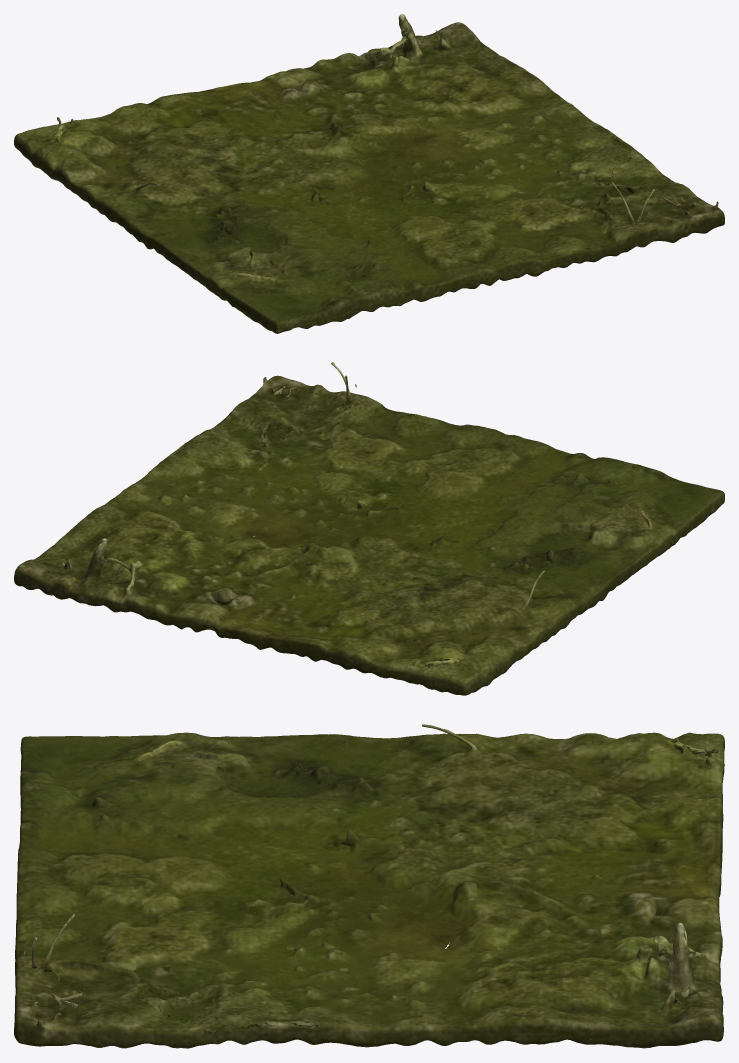
File: haz_river_water_floor.raw.glb
3 views of the same model, one above another, from view 1: azimuth 30°, elevation 25°; view 2: azimuth 150°, elevation 25°; view 3: azimuth 270°, elevation 25° (orthographic). The views are drawn at different scales.
Visible parts, largest first — view 1: world; view 2: world; view 3: world.
Boxes of the visible parts, bbox=[...] form: world: bbox=[14, 14, 724, 333]; world: bbox=[14, 362, 724, 695]; world: bbox=[14, 724, 724, 1048].
Bounding box in the file's own units: 0.9967 × 0.1254 × 0.9988.
1 material, 1 textured.
